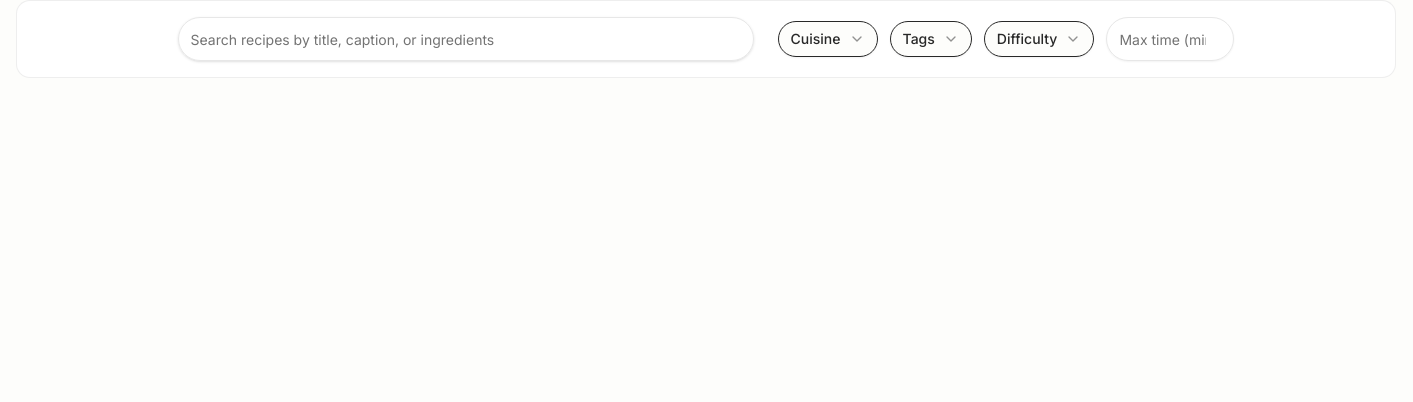
it: FilterBar › tags filter › should handle scrolling for many tags
Step 1. Click the button with test id "tags-filter-trigger" → (931, 39), box [890,21,972,57]
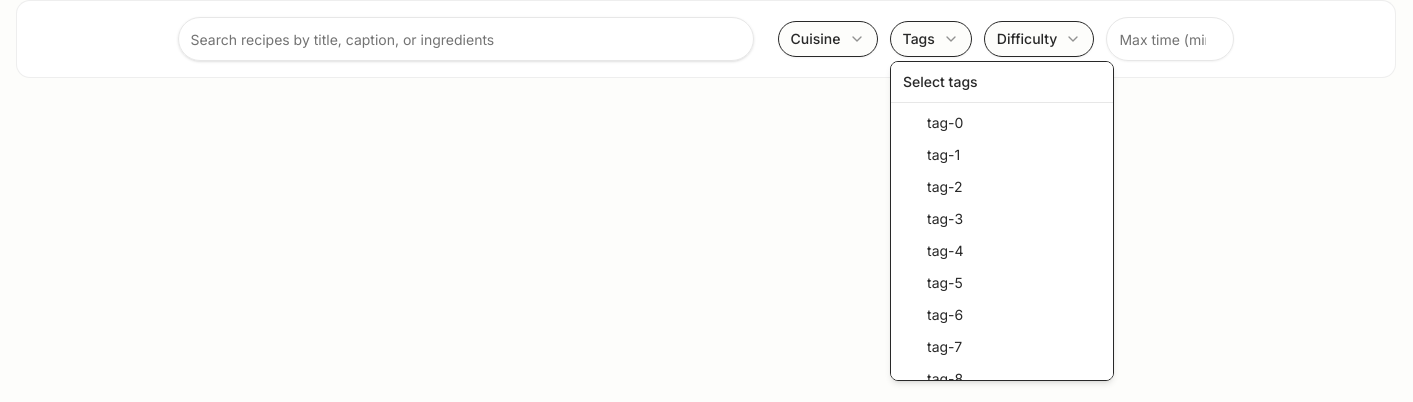
Now the menu item with test id "tag-option-tag-0" is shown, box [927,114,963,131]
